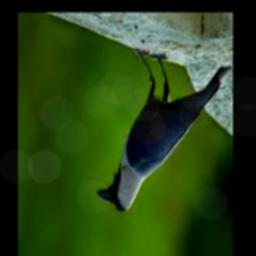Crow: (96, 51, 230, 211)
